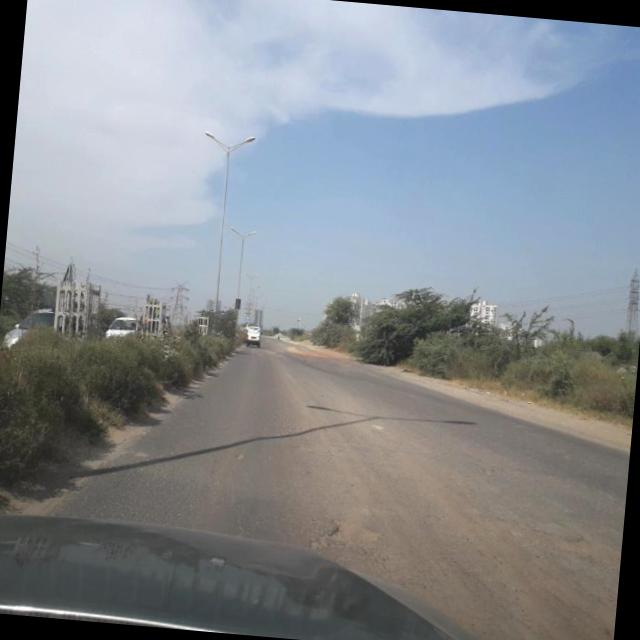crack: (258, 385, 452, 471), (94, 435, 218, 526), (216, 432, 262, 534)
pothole: (477, 492, 625, 578), (304, 488, 406, 566)
